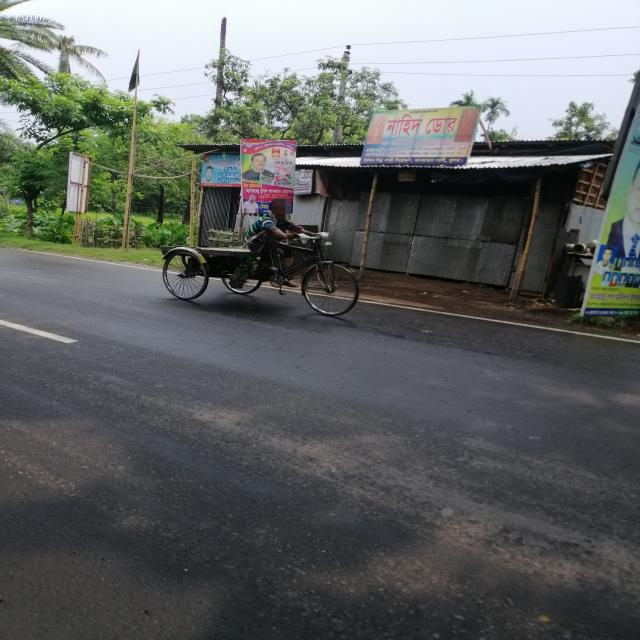Van: (161, 217, 372, 311)
